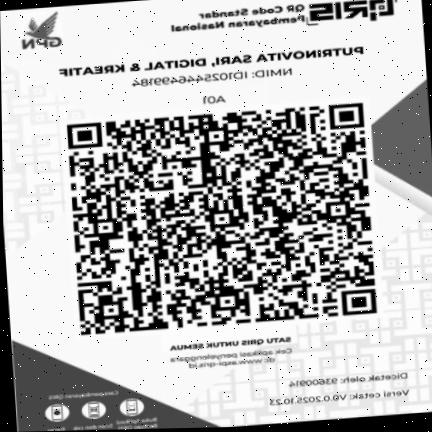Cara Pakai QRIS: (31, 383, 161, 431)
Cek Aplikasi Penyelenggara: (162, 346, 299, 374)
Dicetak Oleh: (283, 368, 416, 392)
Logo GPN: (2, 6, 75, 58)
Logo dan deskripsi QRIS: (154, 0, 410, 44)
Nama Merchant: (50, 43, 369, 81)
National Merchant ID: (125, 64, 299, 89)
QR Code: (59, 98, 386, 341)
Slogan: (162, 333, 299, 354)
Terminal ID: (194, 92, 233, 108)
Versi Cetak: (261, 386, 417, 409)
